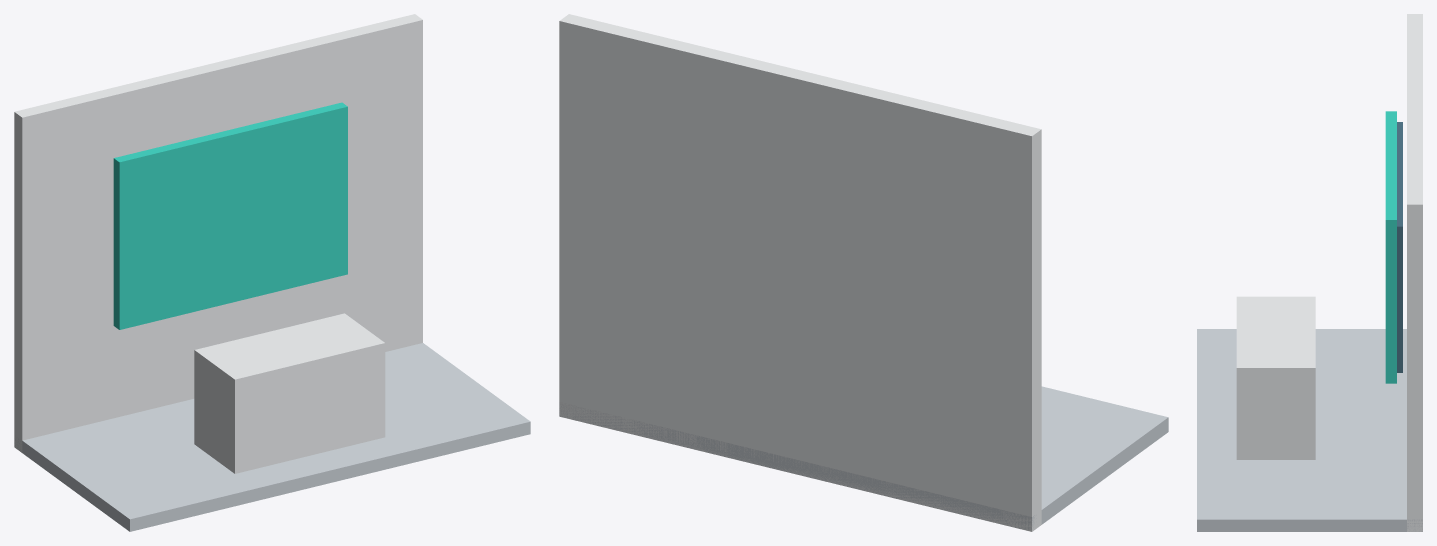
3 views of the same model, side by side, from view 1: azimuth 30°, elevation 25°; view 2: azimuth 150°, elevation 25°; view 3: azimuth 270°, elevation 25° (orthographic). The views are drawn at different scales.
Parts seen in each view (by area): view 1: Exhibition Booth Concept; view 2: Exhibition Booth Concept; view 3: Exhibition Booth Concept.
Part boxes in pixels (x1,y1,x2,y2): Exhibition Booth Concept: (14,14,530,531); Exhibition Booth Concept: (559,14,1168,531); Exhibition Booth Concept: (1197,14,1422,531).
Bounding box in the file's own units: 4 × 3.2 × 2.
